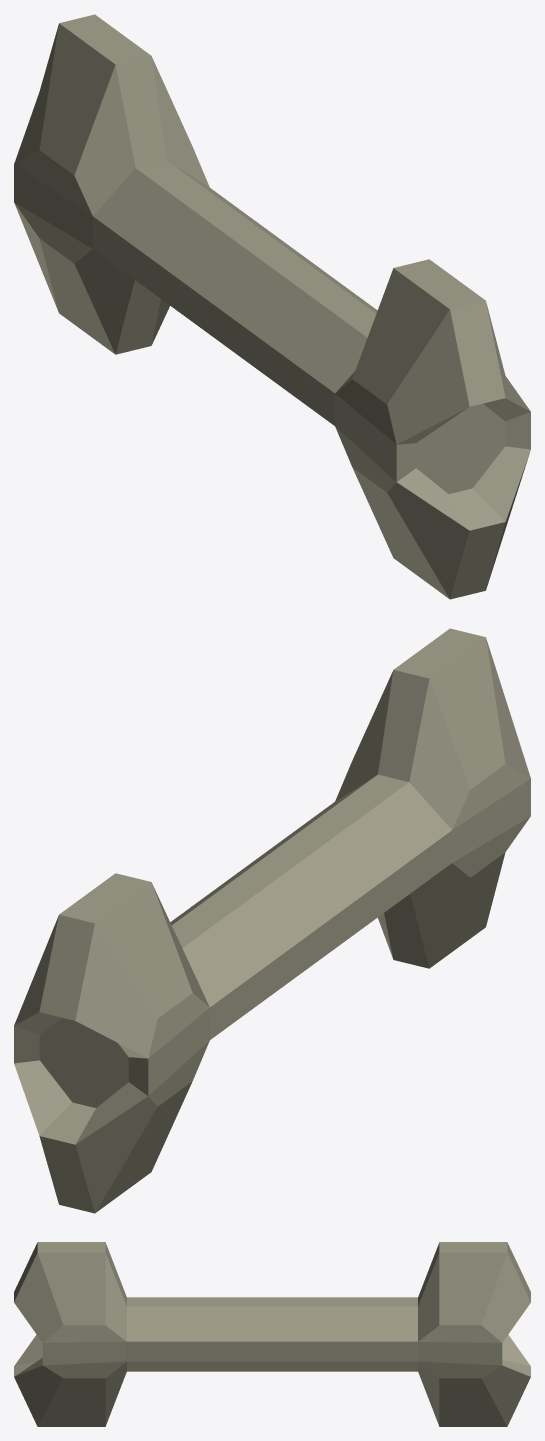
File: graveyardBone.fbx
3 views of the same model, one above another, from view 1: azimuth 30°, elevation 25°; view 2: azimuth 150°, elevation 25°; view 3: azimuth 270°, elevation 25° (orthographic). The views are drawn at different scales.
Parts seen in each view (by area): view 1: Cube; view 2: Cube; view 3: Cube.
Boxes of the visible parts, box(x1,y1,x2,y2) form: Cube: box(14, 14, 530, 599); Cube: box(14, 628, 530, 1213); Cube: box(14, 1242, 530, 1426).
Bounding box in the file's own units: 227 × 469 × 1259.
